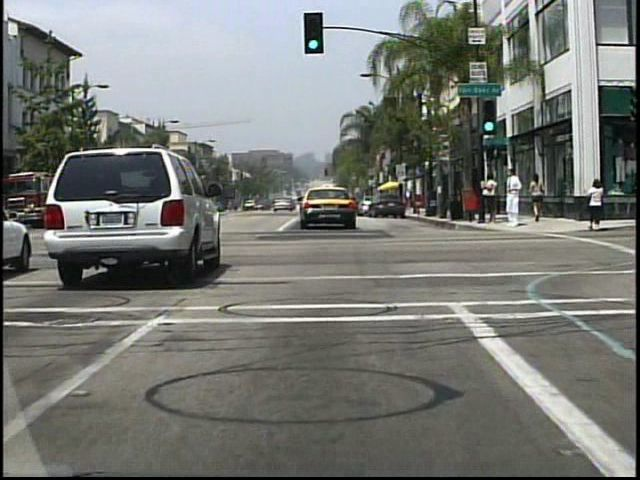person: (504, 170, 524, 229), (586, 178, 605, 232), (531, 173, 548, 225), (484, 171, 499, 228), (404, 189, 414, 214)
